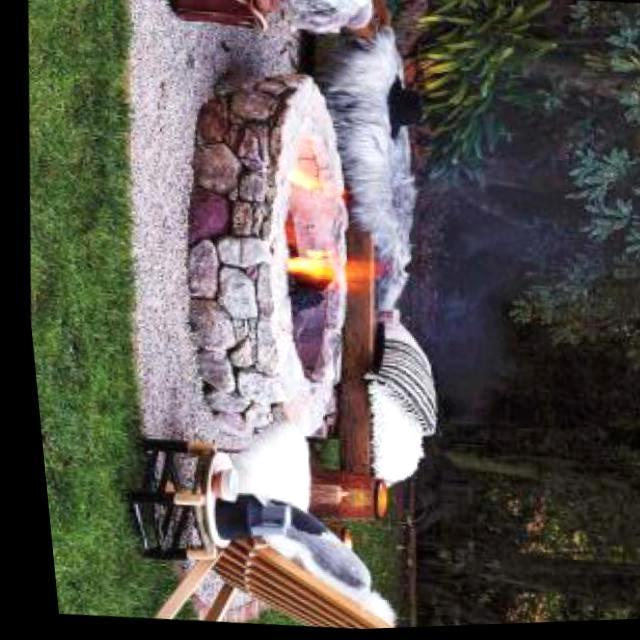fire: (275, 240, 377, 298), (281, 164, 343, 208)
